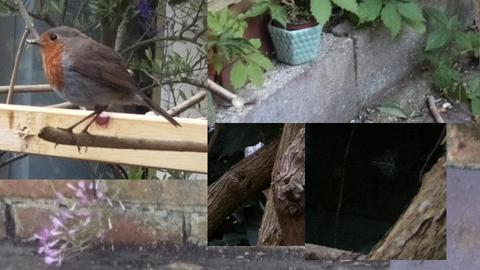robin: (25, 25, 182, 154)
